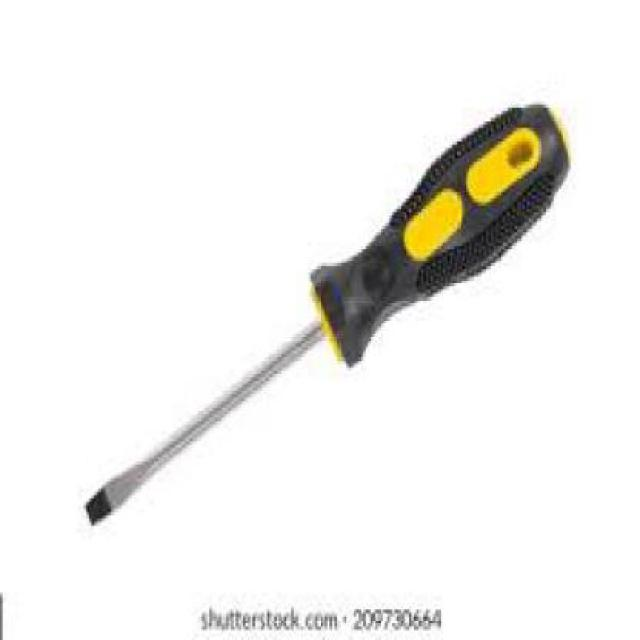screwdriver: (87, 95, 578, 522)
